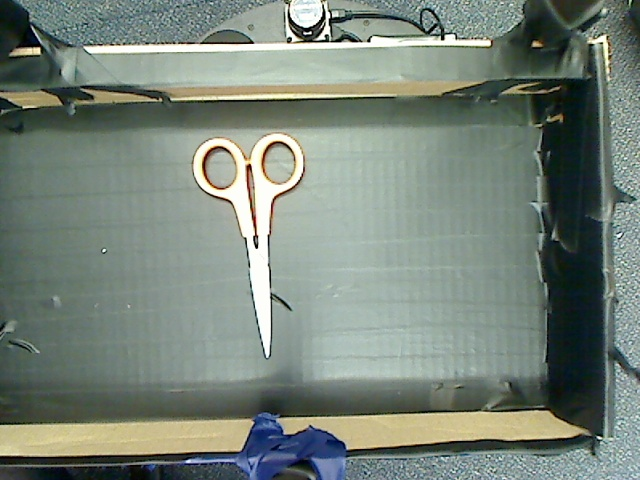scissors: (180, 123, 310, 362)
